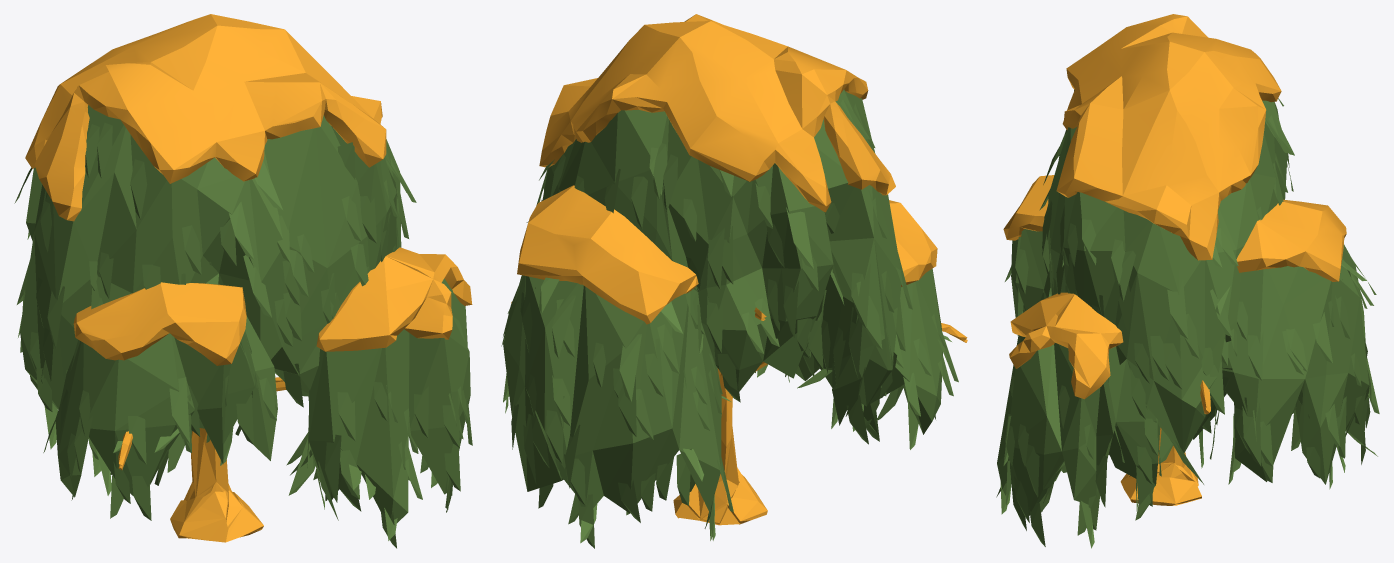
File: SM_Tree_Willow_Weeping_Mature_A_Snow.fbx
The picture shows the model from 3 angles, left to right: view 1: azimuth 30°, elevation 25°; view 2: azimuth 150°, elevation 25°; view 3: azimuth 270°, elevation 25°; orthographic projection. The views are drawn at different scales.
Parts seen in each view (by area): view 1: tree-willow-weeping-mature-a-snow; view 2: tree-willow-weeping-mature-a-snow; view 3: tree-willow-weeping-mature-a-snow.
Part boxes in pixels (bbox=[...]): tree-willow-weeping-mature-a-snow: bbox=[14, 14, 472, 548]; tree-willow-weeping-mature-a-snow: bbox=[501, 14, 967, 548]; tree-willow-weeping-mature-a-snow: bbox=[996, 14, 1379, 548].
Size of the model in its own units: 7.2 by 8.48 by 6.54.
